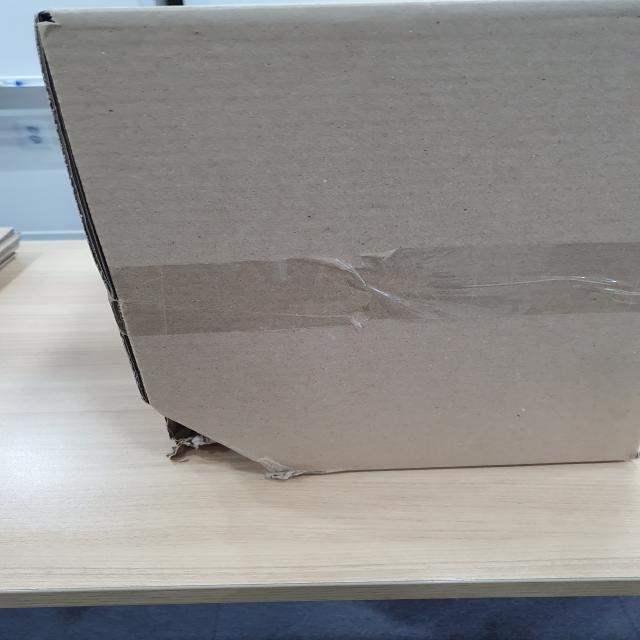hole: (150, 394, 280, 464)
